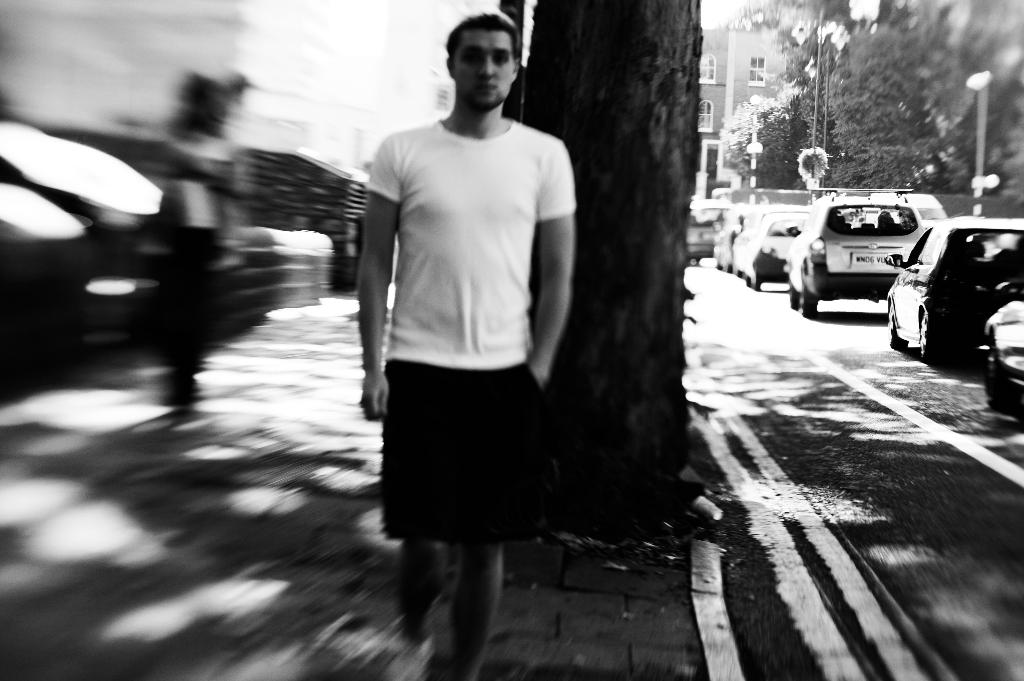Car: (895, 193, 1014, 361), (787, 184, 925, 318), (984, 280, 1023, 411), (733, 205, 810, 269), (715, 206, 784, 272), (748, 216, 810, 288), (688, 201, 727, 264)
